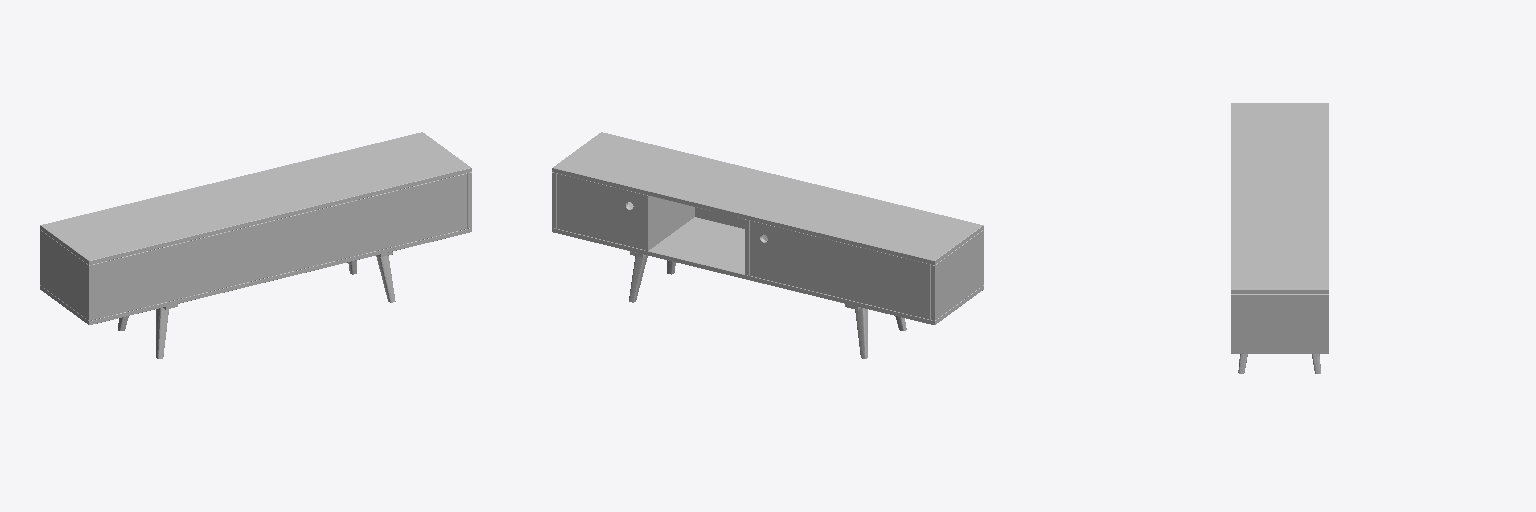
Rendered from ANDERSEN TV VINTAGE MEUBEL.obj.
3 renders of one model, left to right at view 1: azimuth 30°, elevation 25°; view 2: azimuth 150°, elevation 25°; view 3: azimuth 270°, elevation 25°, orthographic.
Parts seen in each view (by area): view 1: ANDERSEN_TV_VINTAGE_MEUBEL; view 2: ANDERSEN_TV_VINTAGE_MEUBEL; view 3: ANDERSEN_TV_VINTAGE_MEUBEL.
Boxes of the visible parts, <box> form: ANDERSEN_TV_VINTAGE_MEUBEL: <box>40,132,471,358</box>; ANDERSEN_TV_VINTAGE_MEUBEL: <box>552,132,983,358</box>; ANDERSEN_TV_VINTAGE_MEUBEL: <box>1231,103,1328,373</box>.
Bounding box in the file's own units: 1800 × 535 × 400.